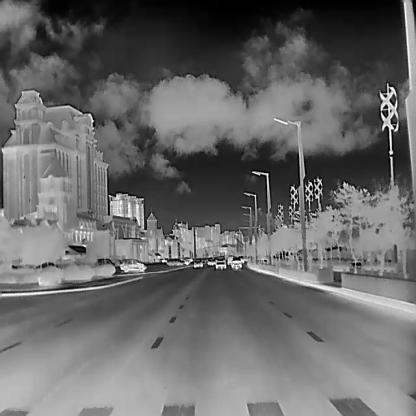car: (92, 256, 115, 275), (118, 258, 146, 272), (165, 257, 185, 266), (214, 254, 225, 268), (230, 255, 241, 269), (193, 257, 203, 266), (206, 256, 215, 265), (237, 255, 244, 263), (227, 254, 232, 264)
